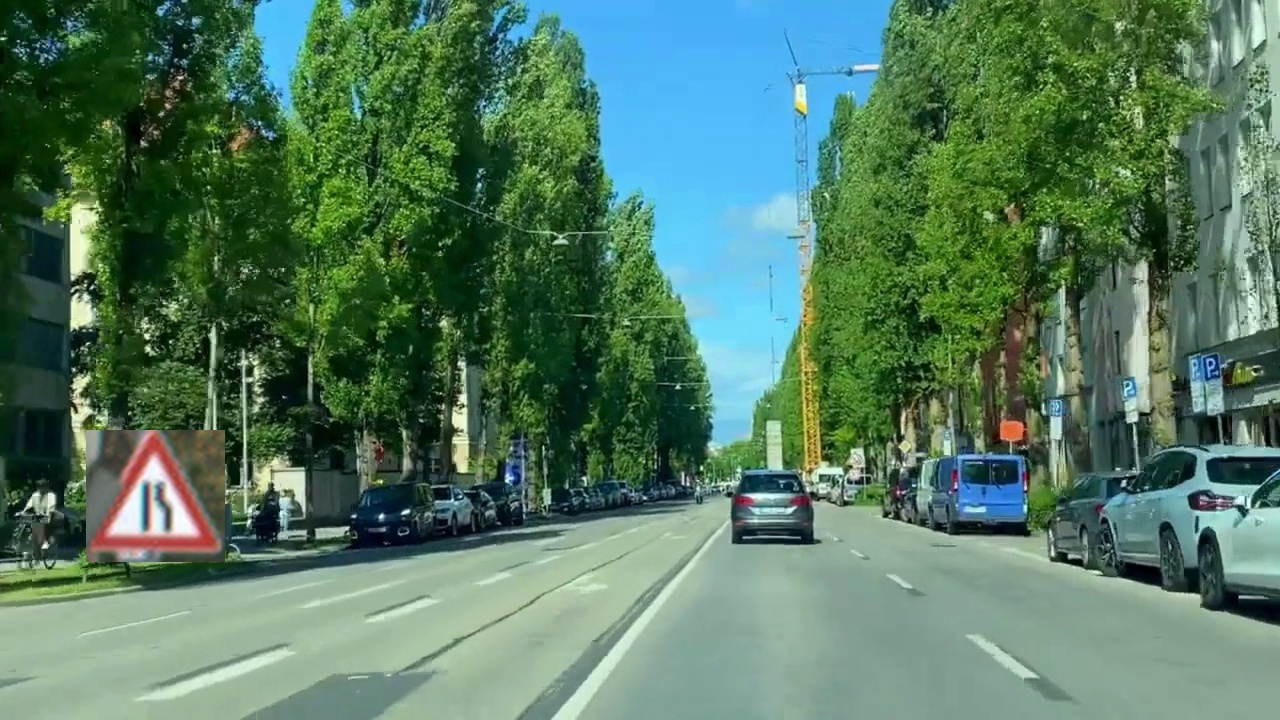Road narrows: (86, 430, 225, 562)
